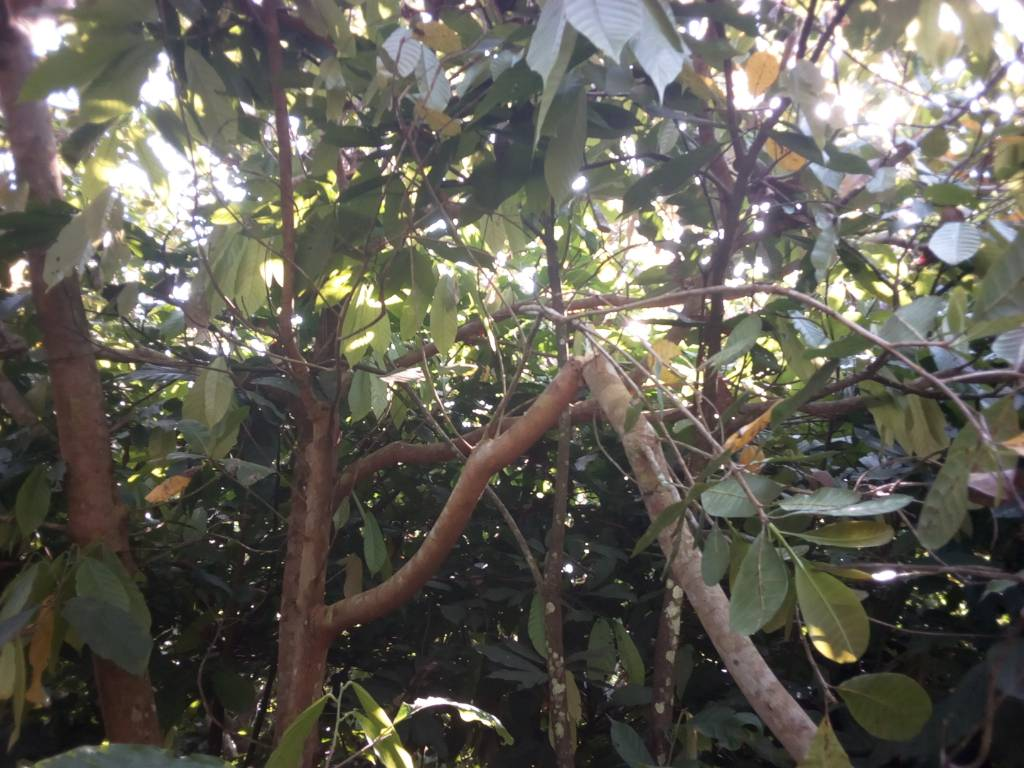Analepse trifasciata: (549, 343, 621, 411)
